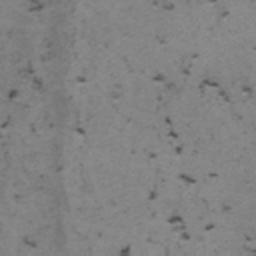Oxide scale of temperature system: (148, 0, 256, 255), (0, 65, 87, 174), (20, 236, 38, 250), (26, 0, 44, 13), (116, 243, 132, 256), (219, 9, 230, 17)
